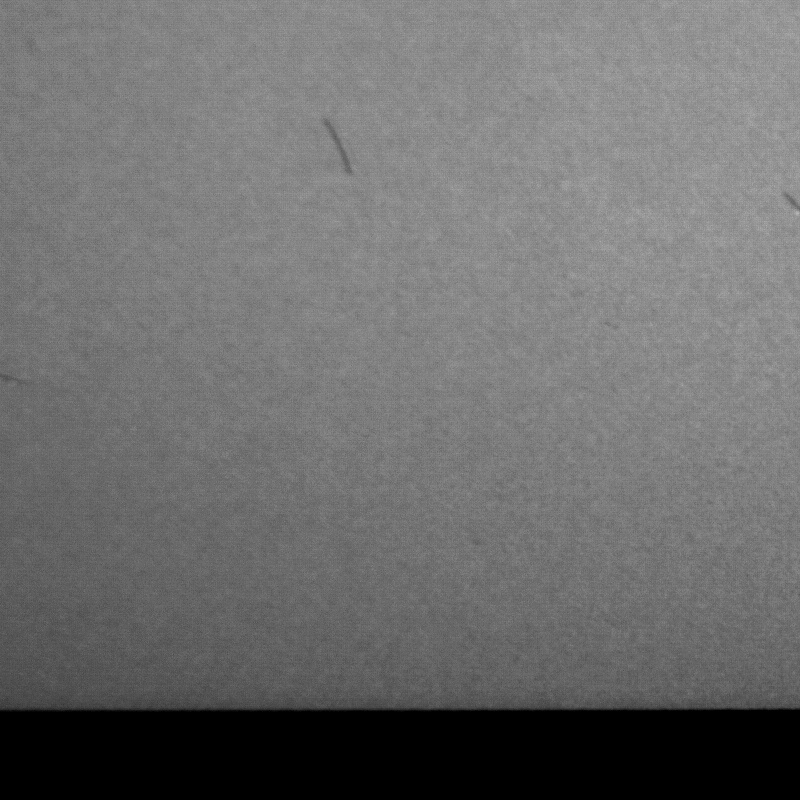defect: (317, 115, 357, 178), (777, 189, 800, 216)
